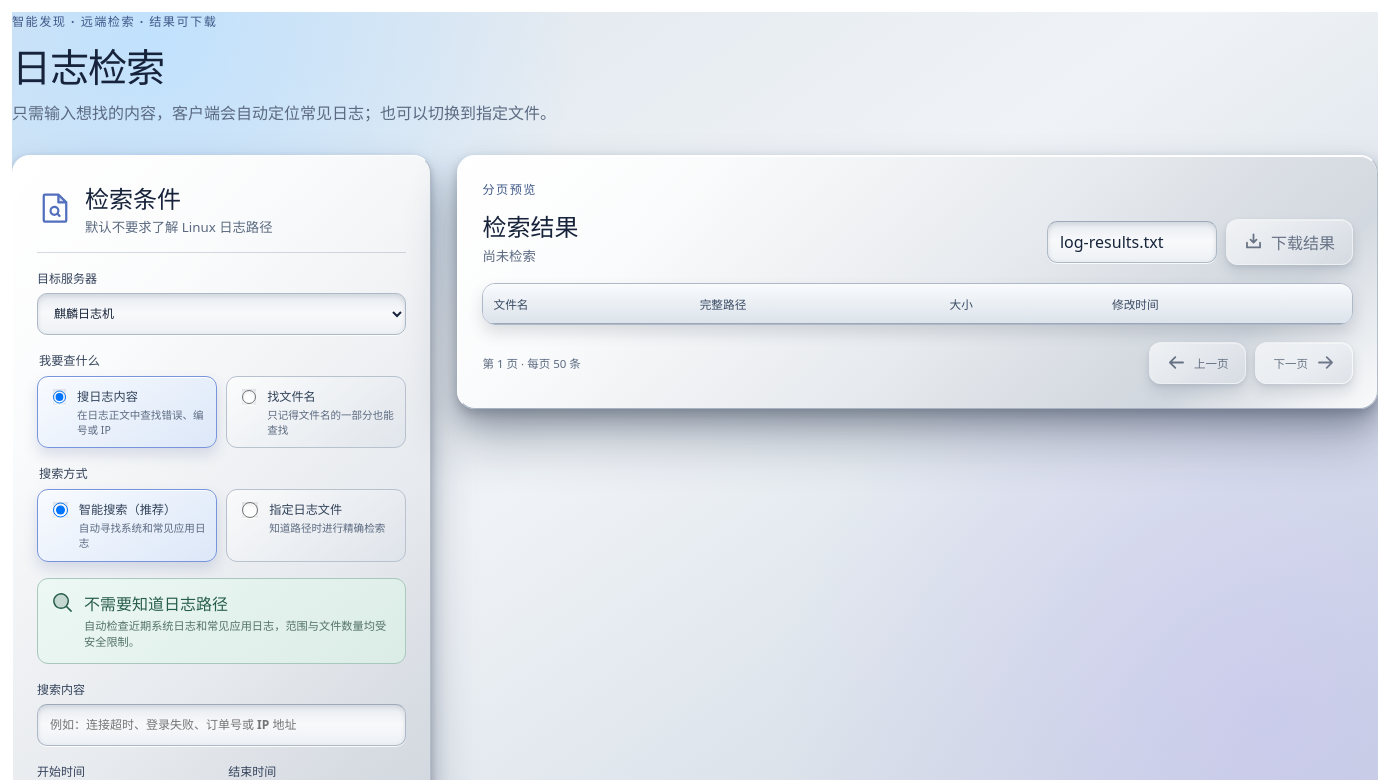
LogSearchPage › finds remote files by a fuzzy filename without exposing content-only controls
Click the radio button labelled "找文件名" at (249, 397), box [242, 389, 256, 405]
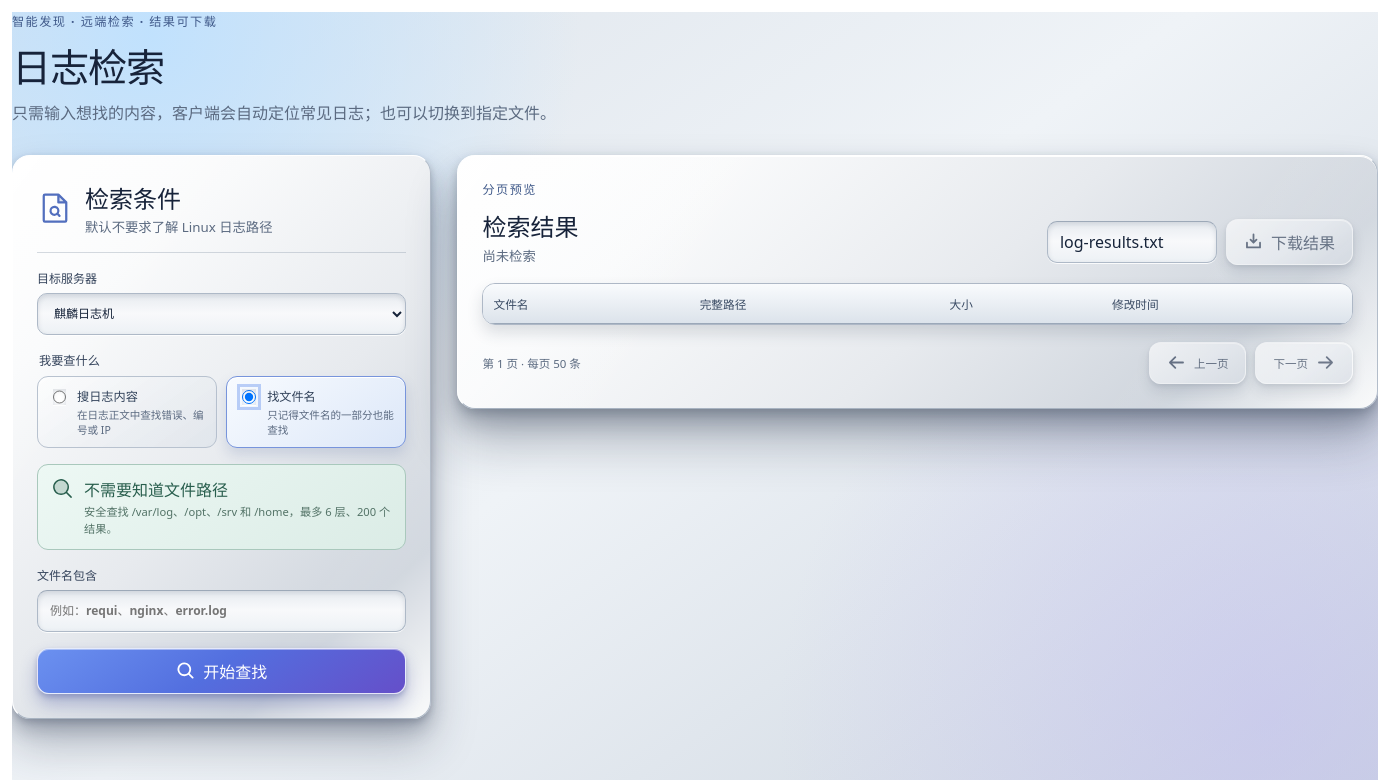
Expected: the text labelled "开始时间" is gone
Type "requi" into the field labelled "文件名包含" at (222, 611), box [37, 590, 406, 632]
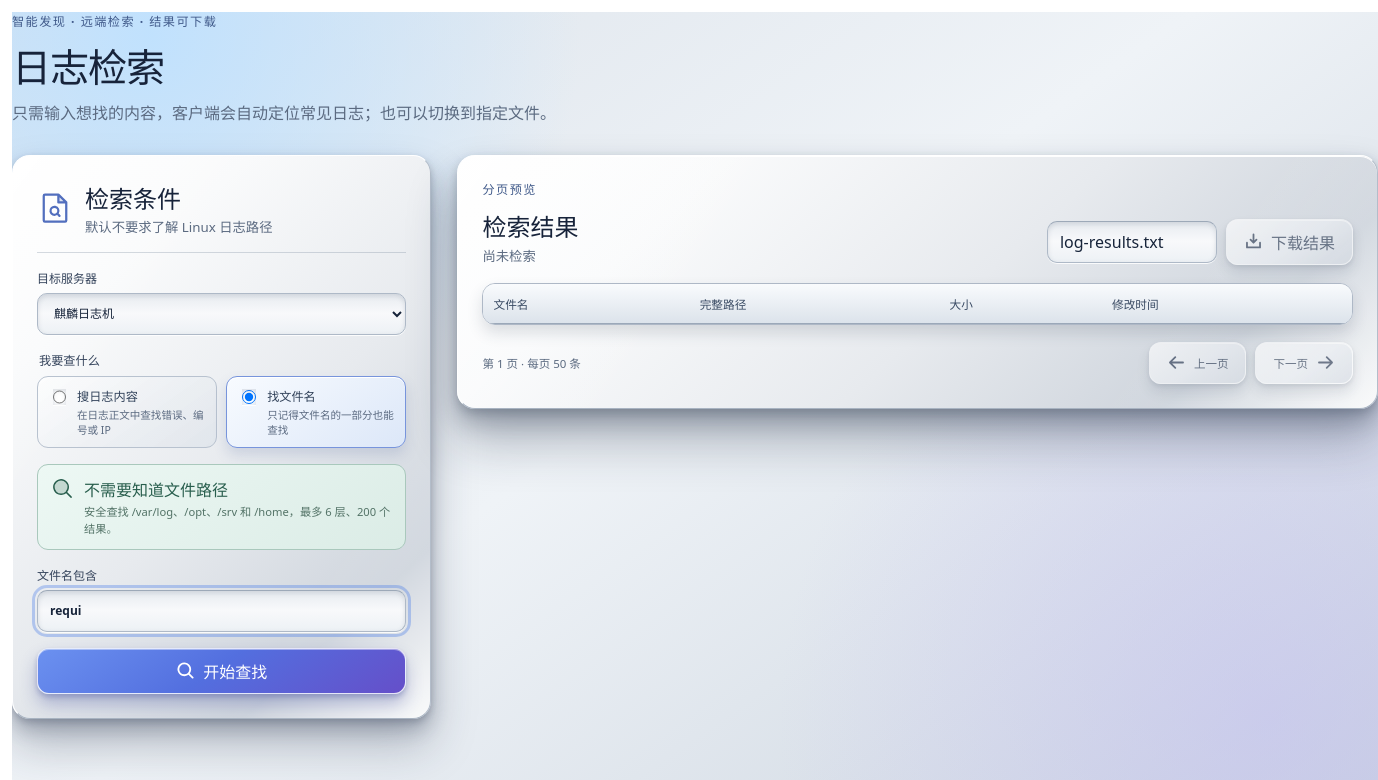
Click the button "开始查找" at (222, 671), box [37, 648, 406, 694]
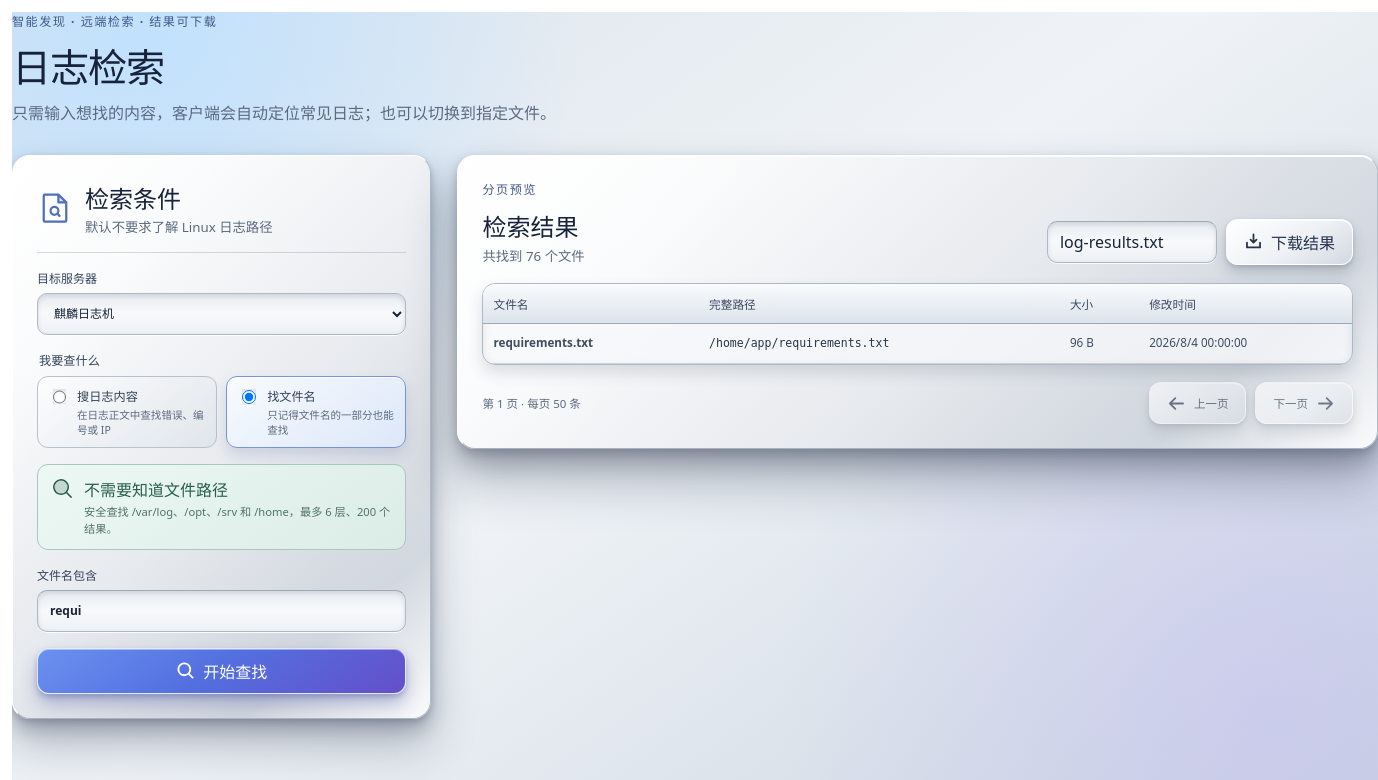
Expected: the text "requirements.txt" is shown, [494, 335, 593, 350]
Expected: the text "/home/app/requirements.txt" is shown, [709, 336, 889, 350]
Expected: the text "96 B" is shown, [1060, 323, 1139, 364]
